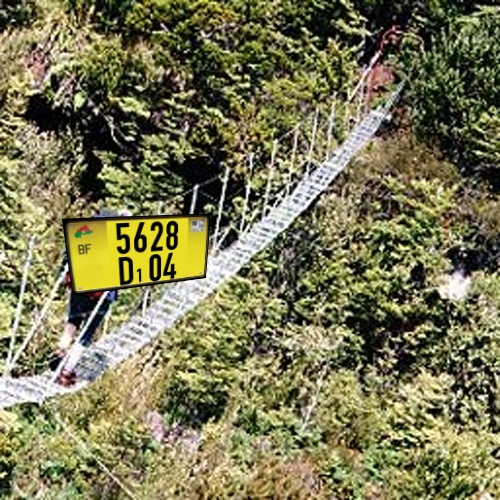plate: (51, 201, 225, 300)
